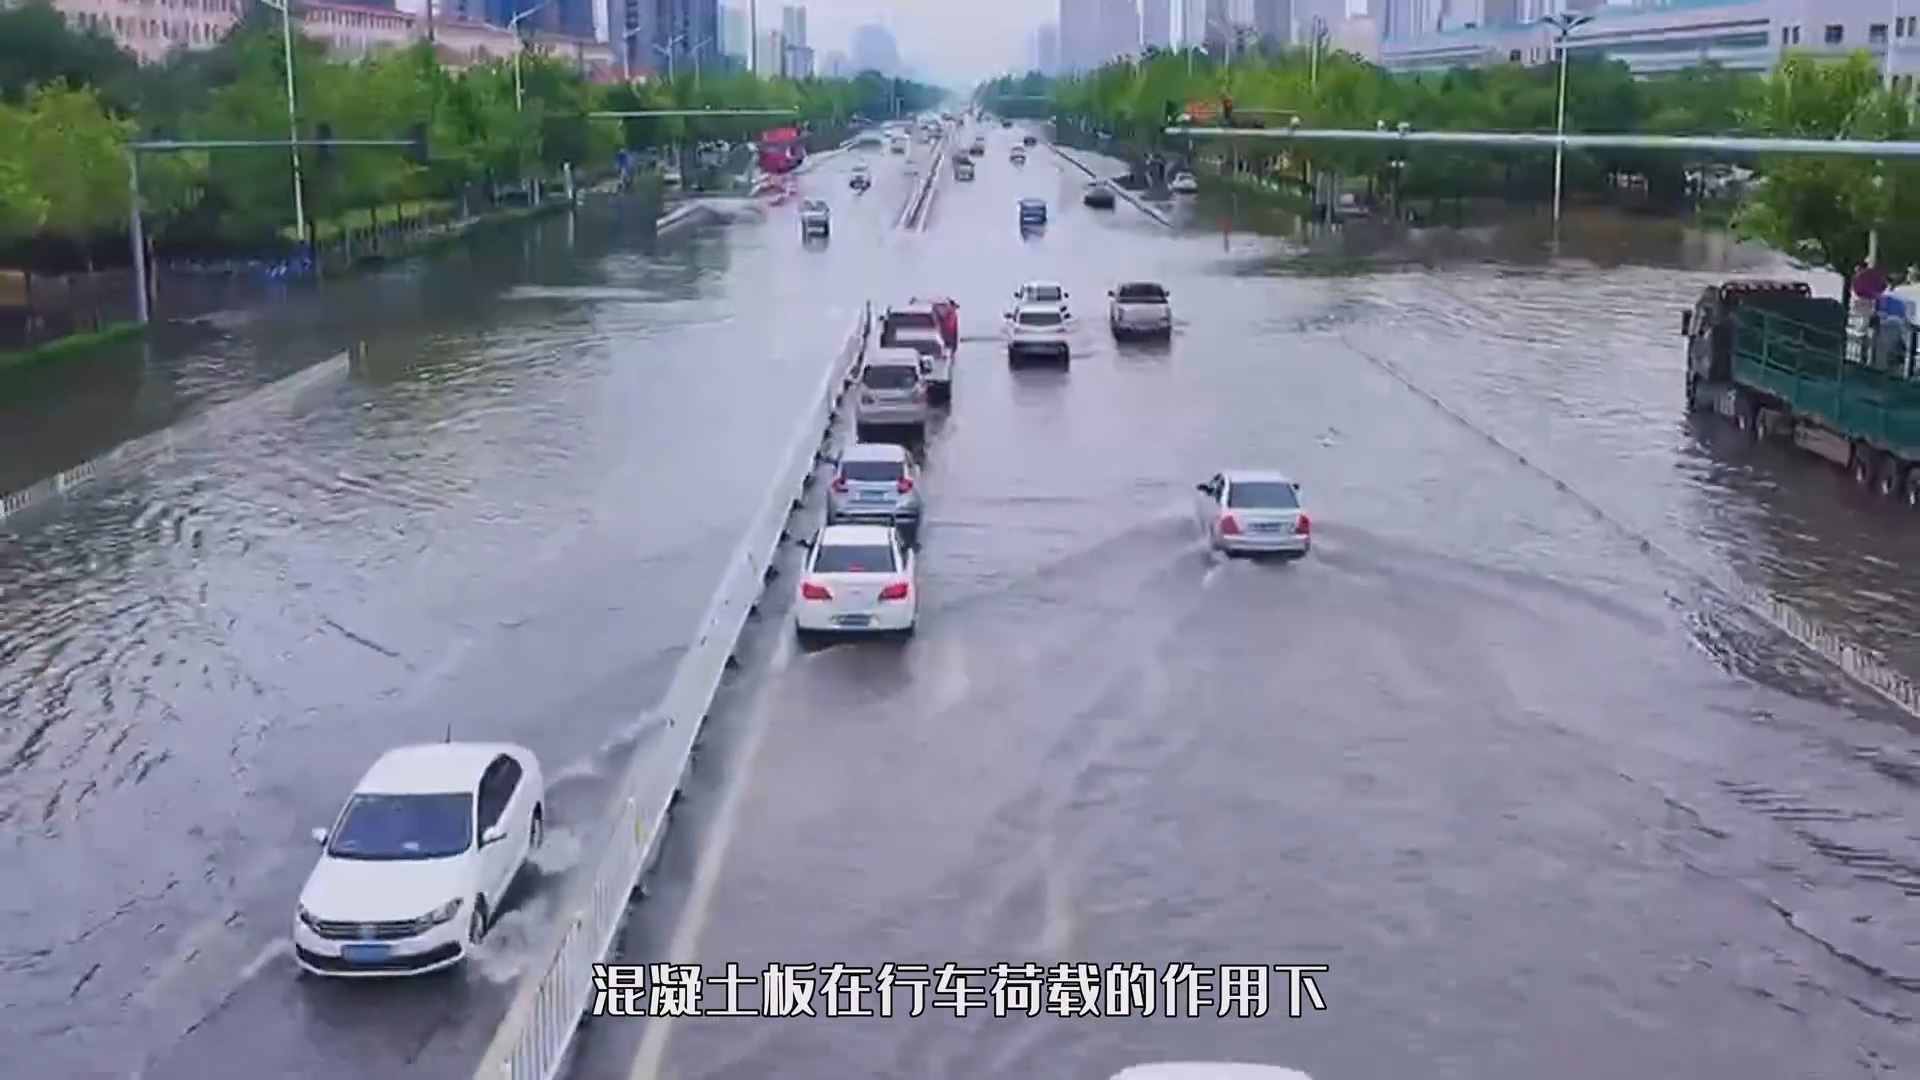puddle: (1, 348, 1920, 1080)
